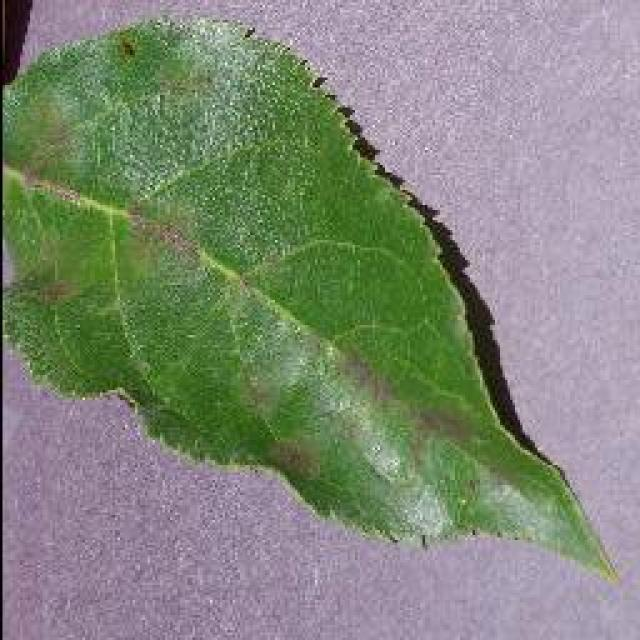apple scab disease: (0, 10, 618, 582)
